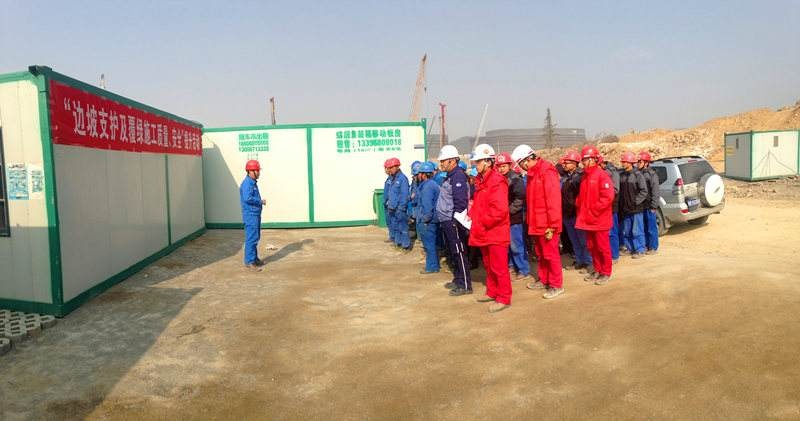blue: (415, 161, 431, 185)
red: (494, 150, 512, 177), (581, 142, 598, 168), (243, 157, 262, 180), (561, 151, 580, 173), (618, 150, 634, 171), (636, 151, 651, 172), (387, 155, 402, 175)
white: (511, 142, 537, 172), (437, 141, 460, 172)
